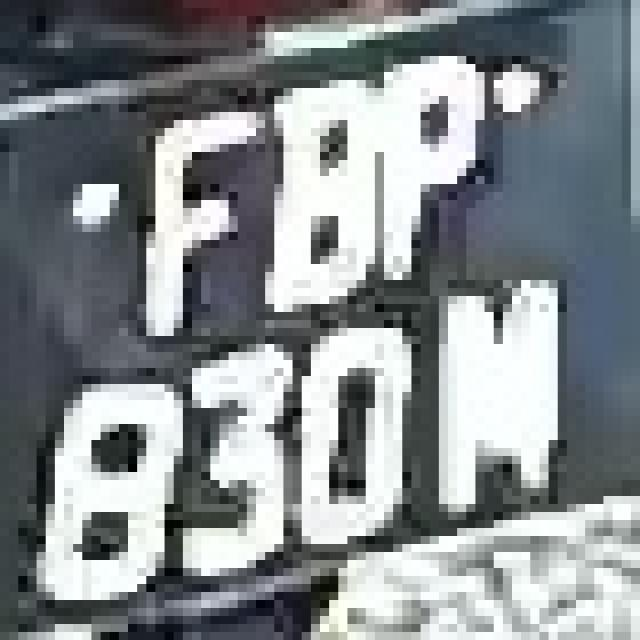0: (302, 296, 439, 528)
3: (174, 336, 292, 584)
8: (36, 368, 183, 608)
B: (238, 72, 393, 312)
F: (119, 80, 265, 328)
M: (448, 256, 585, 520)
P: (357, 40, 512, 304)
